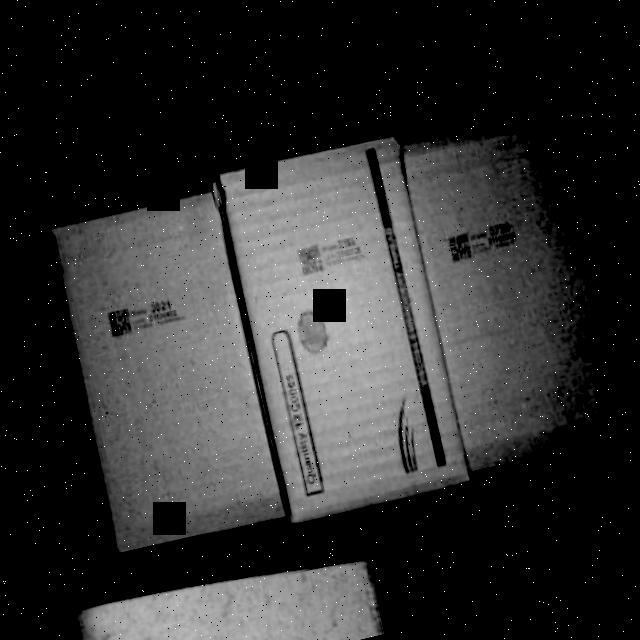box: (218, 136, 474, 524), (42, 182, 290, 552), (397, 105, 640, 475)
